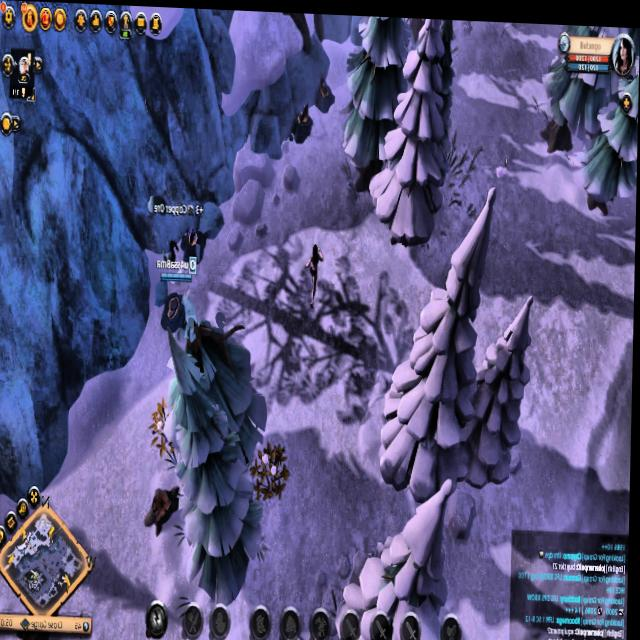copper_ore: (293, 95, 312, 141)
cotton: (246, 443, 290, 499)
